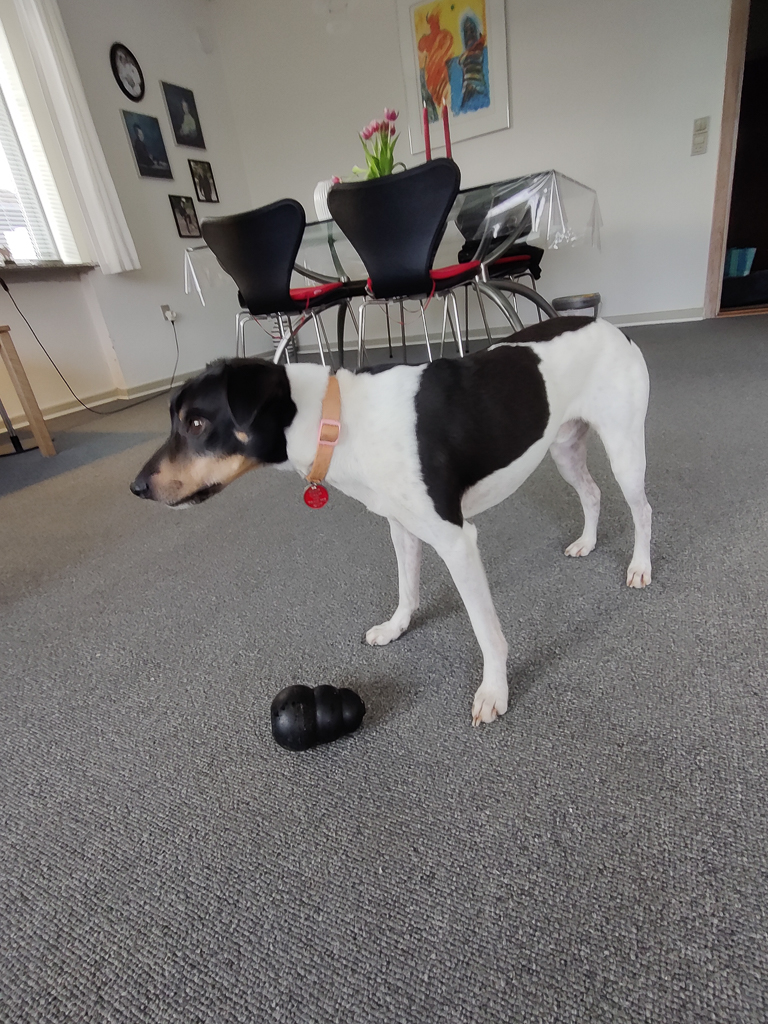Dog: (110, 288, 668, 747)
